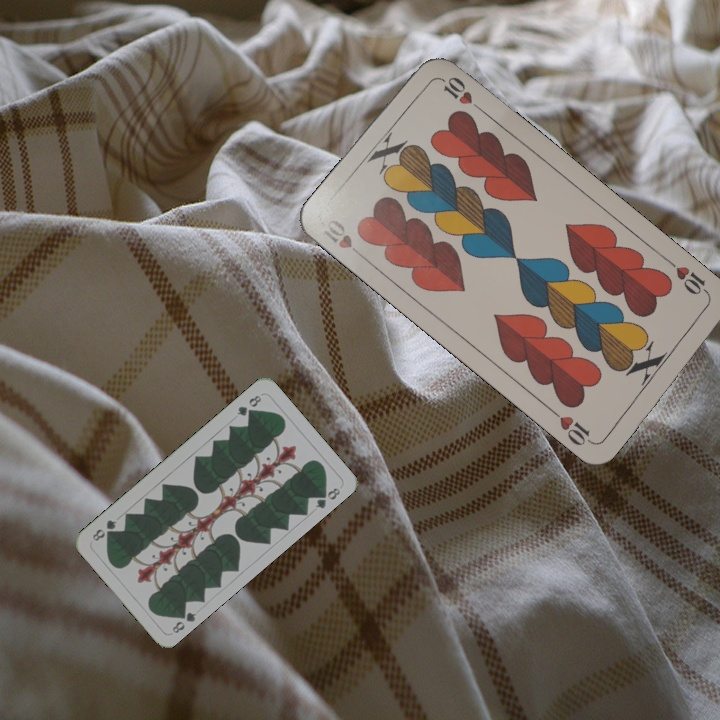G8: (168, 605, 199, 636), (233, 391, 264, 419)
H10: (318, 215, 368, 261), (664, 256, 713, 299)
